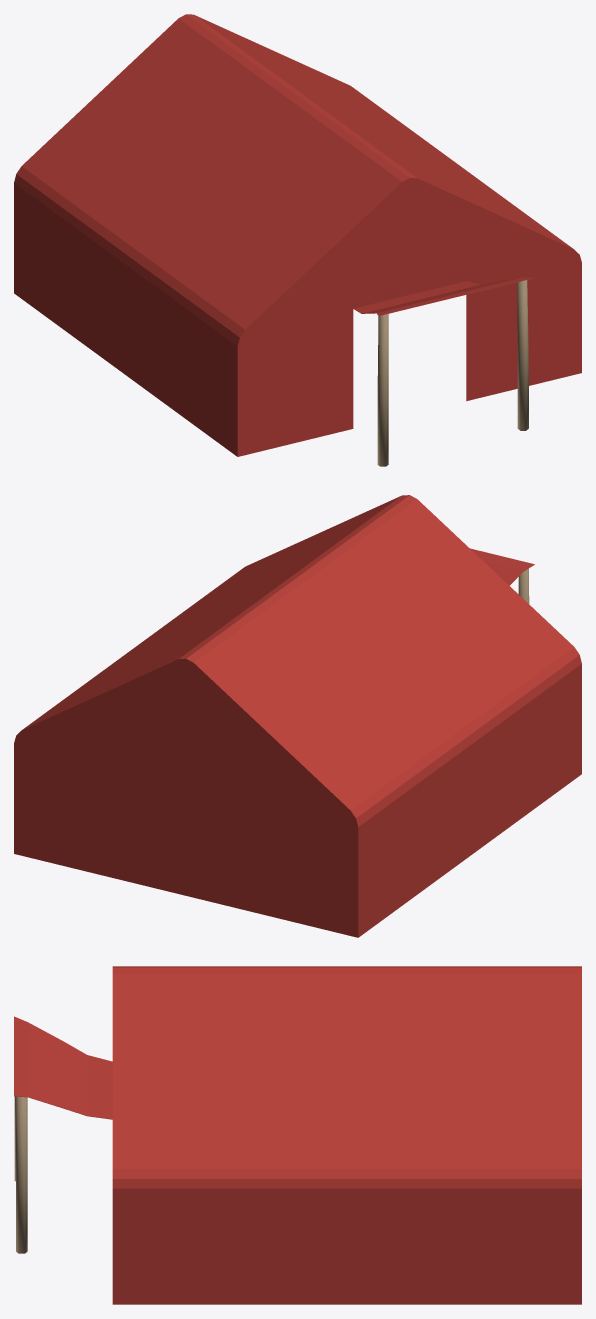
File: Big_War_Tent.fbx
3 renders of one model, top to bottom at view 1: azimuth 30°, elevation 25°; view 2: azimuth 150°, elevation 25°; view 3: azimuth 270°, elevation 25°, orthographic. The views are drawn at different scales.
Visible parts, largest first — view 1: Big War Tent; view 2: Big War Tent; view 3: Big War Tent.
Boxes of the visible parts, <box> form: Big War Tent: <box>14,14,581,466</box>; Big War Tent: <box>14,495,581,937</box>; Big War Tent: <box>14,966,581,1304</box>.
Bounding box in the file's own units: 1407 × 927 × 1915.
